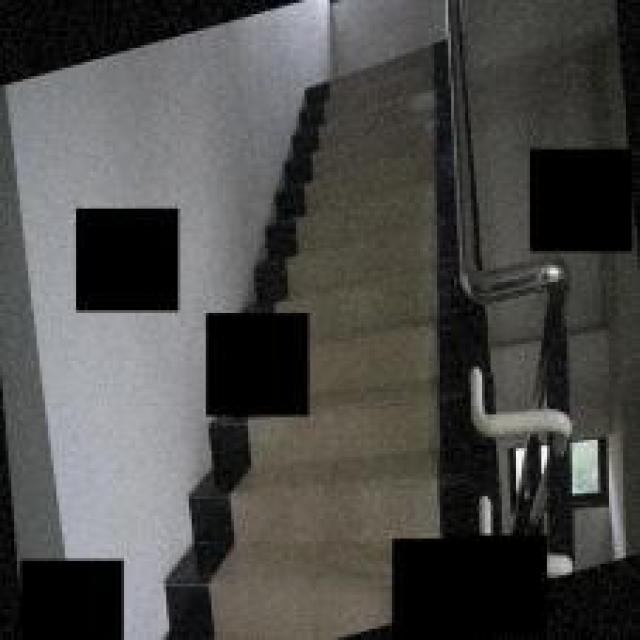upstair: (294, 66, 458, 305)
